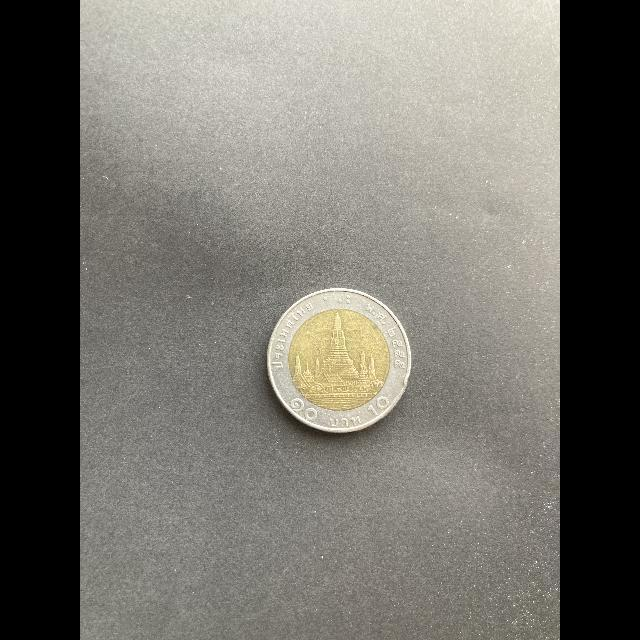10 Bath: (266, 285, 417, 437)
